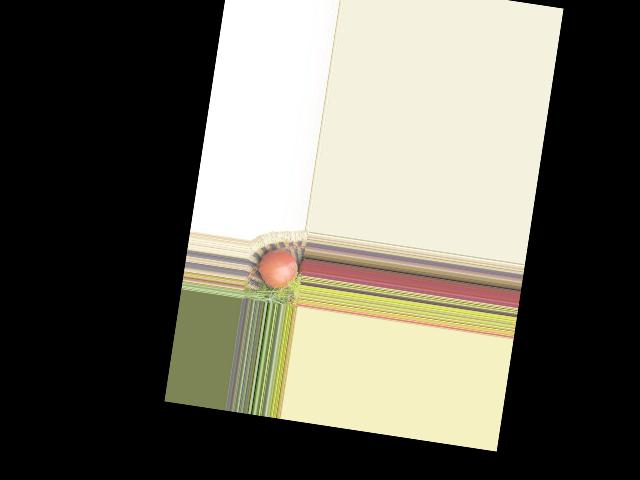tomato: (256, 247, 300, 291)
